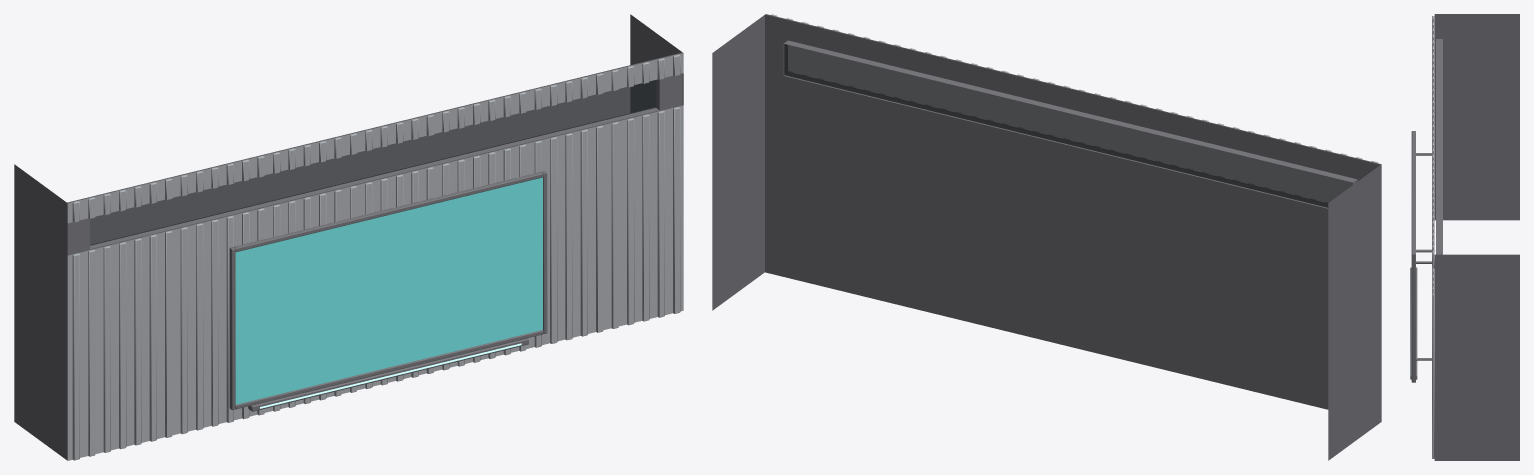
File: retro_upper_8c.glb
3 renders of one model, left to right at view 1: azimuth 30°, elevation 25°; view 2: azimuth 150°, elevation 25°; view 3: azimuth 270°, elevation 25°, orthographic. The views are drawn at different scales.
Visible parts, largest first — view 1: retro_upper_8c; view 2: retro_upper_8c; view 3: retro_upper_8c.
Part boxes in pixels (<box>): retro_upper_8c: <box>14,14,683,460</box>; retro_upper_8c: <box>712,14,1381,460</box>; retro_upper_8c: <box>1410,14,1519,460</box>.
Size of the model in its own units: 8 by 3.2 by 1.55.
